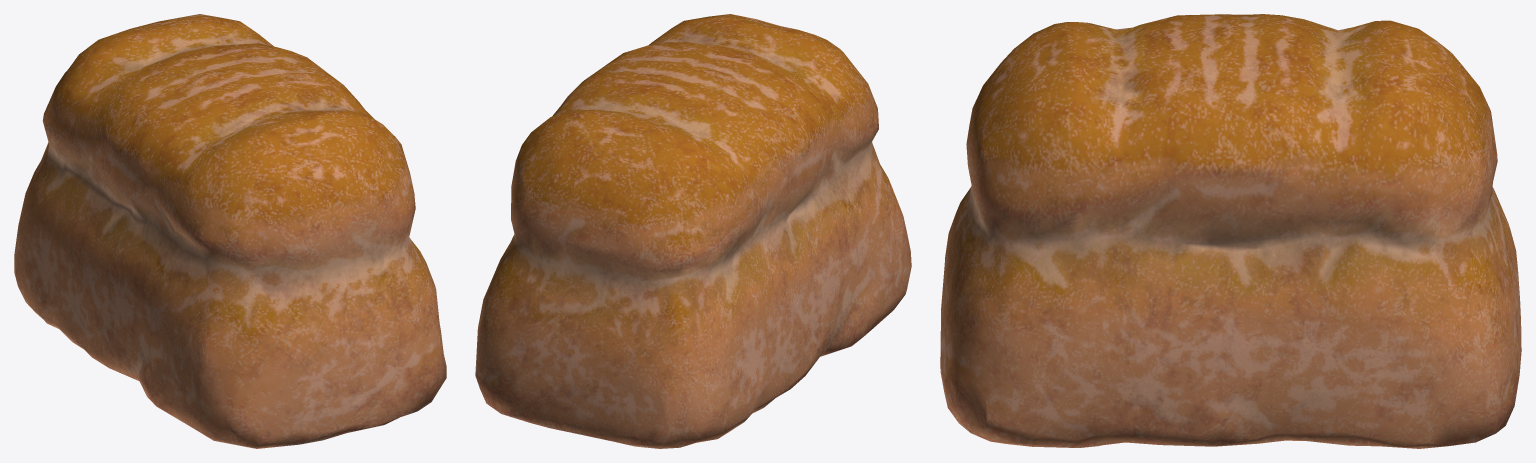
Rendered from Bread_14_bread6_b_mesh.obj.
3 renders of one model, left to right at view 1: azimuth 30°, elevation 25°; view 2: azimuth 150°, elevation 25°; view 3: azimuth 270°, elevation 25°, orthographic. The views are drawn at different scales.
Size of the model in its own units: 0.1569 by 0.1722 by 0.2616.
